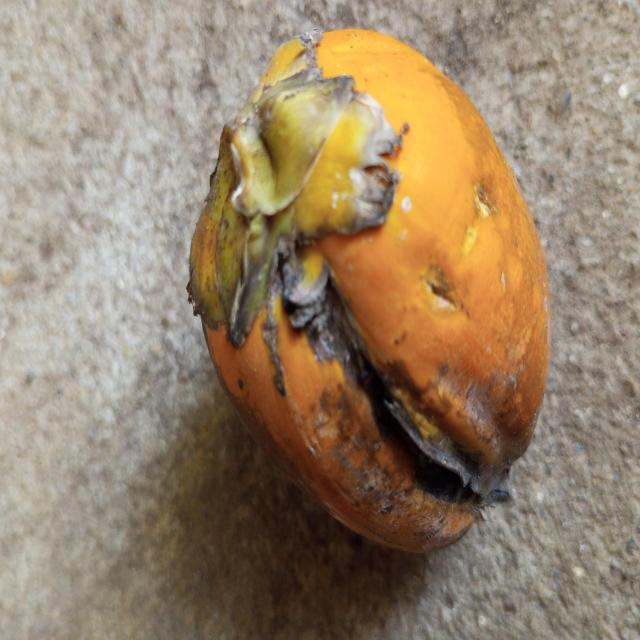damaged: (188, 28, 551, 557)
